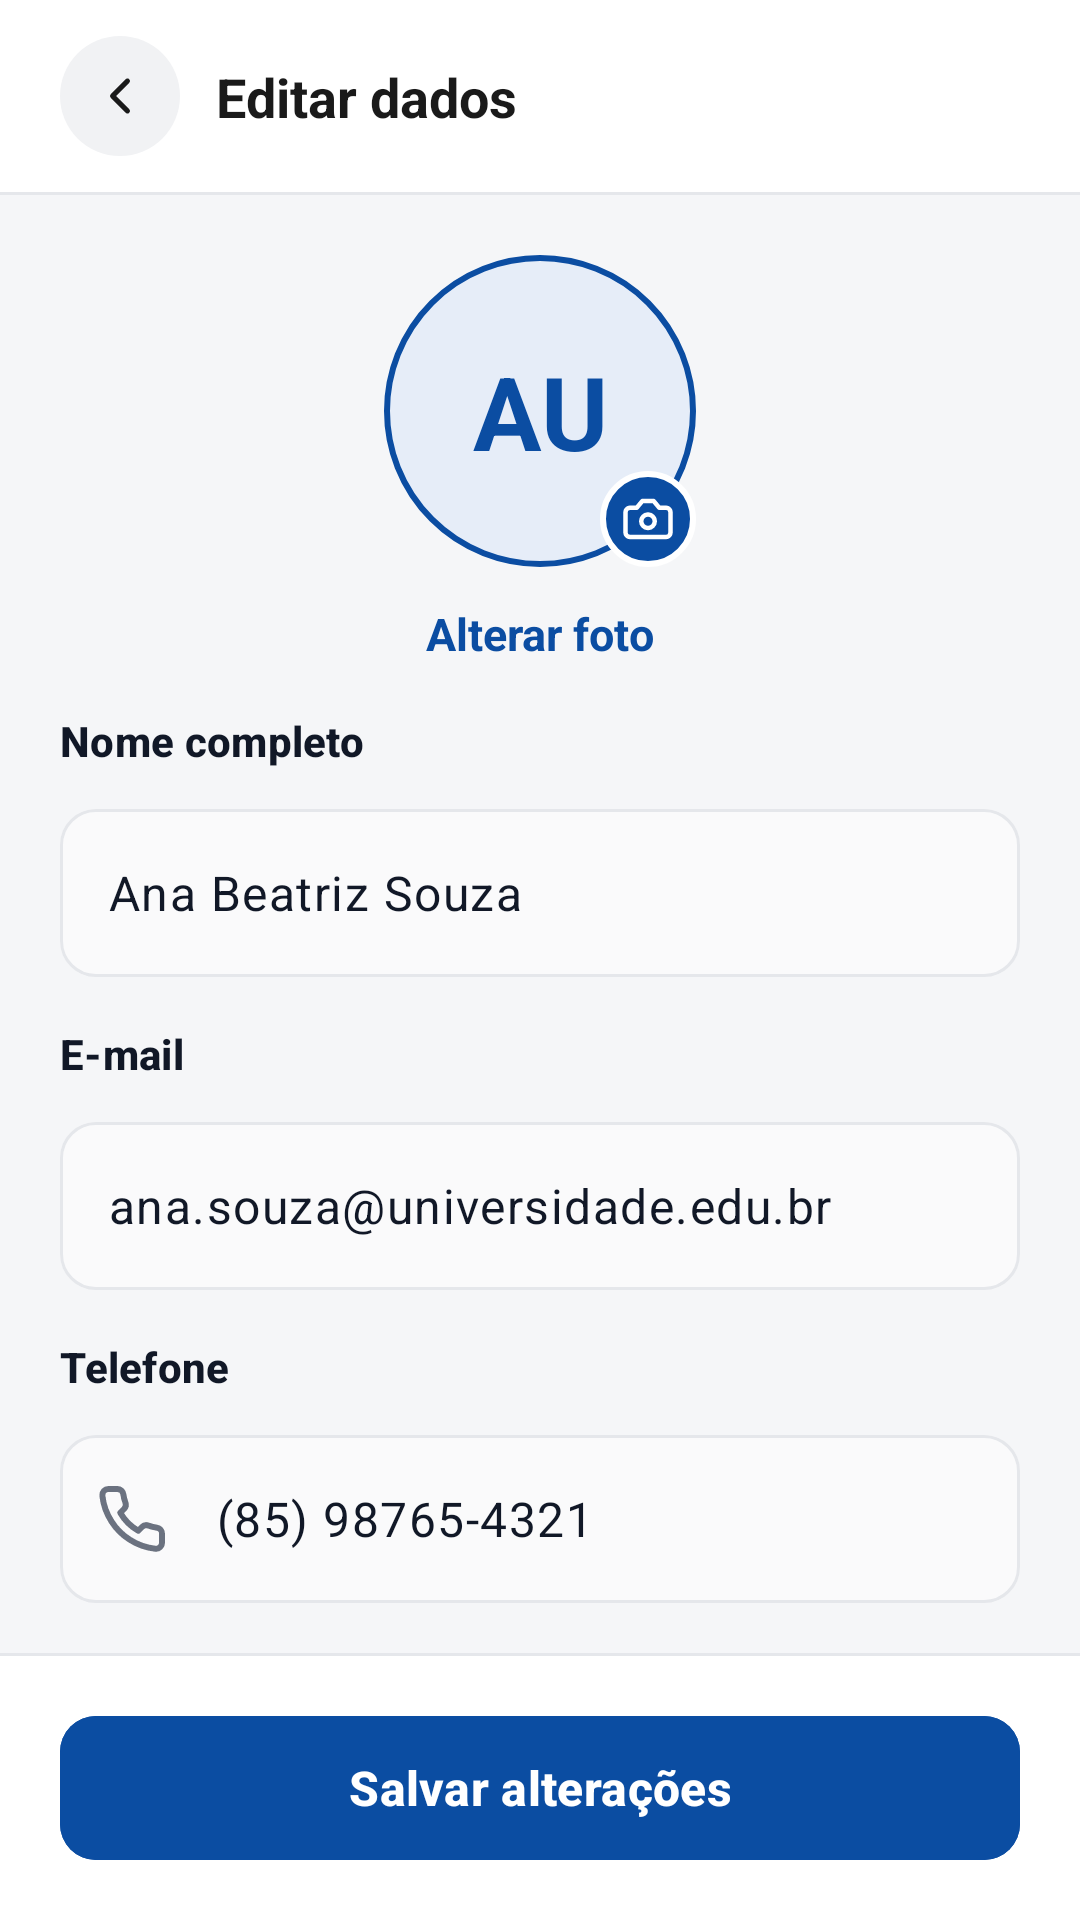

Where to tap for icons on this 1080w x 1920h app screen, as (x,y):
Voltar: (120,96)
